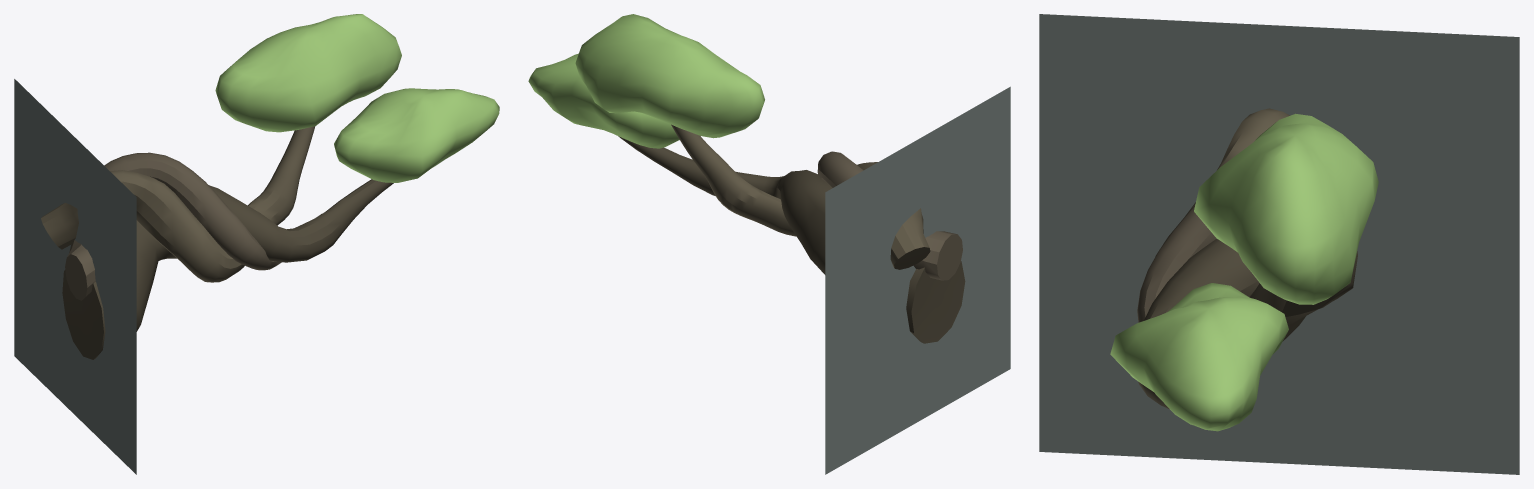
File: Tree.fbx
3 views of the same model, side by side, from view 1: azimuth 30°, elevation 25°; view 2: azimuth 150°, elevation 25°; view 3: azimuth 270°, elevation 25° (orthographic). The views are drawn at different scales.
Visible parts, largest first — view 1: polySurface18, polySurface17, polySurface16, polySurface22, polySurface20, polySurface21; view 2: polySurface18, polySurface17, polySurface20, polySurface22, polySurface16, polySurface21; view 3: polySurface18, polySurface17, polySurface16, polySurface20, polySurface21, polySurface22.
Boxes of the visible parts, box(x1,y1,x2,y2) form: polySurface18: box(14, 79, 136, 474); polySurface17: box(215, 14, 401, 132); polySurface16: box(334, 88, 499, 182); polySurface22: box(41, 126, 315, 282); polySurface20: box(62, 179, 393, 359); polySurface21: box(65, 152, 321, 300); polySurface18: box(825, 86, 1010, 474); polySurface17: box(575, 14, 764, 138); polySurface20: box(618, 136, 965, 343); polySurface22: box(671, 124, 930, 269); polySurface16: box(528, 53, 679, 148); polySurface21: box(817, 151, 962, 280); polySurface18: box(1039, 14, 1519, 474); polySurface17: box(1194, 113, 1378, 304); polySurface16: box(1110, 283, 1288, 431); polySurface20: box(1138, 238, 1357, 409); polySurface21: box(1137, 206, 1216, 322); polySurface22: box(1155, 108, 1289, 311).
Size of the model in its own units: 15.47 by 11.58 by 9.66.
